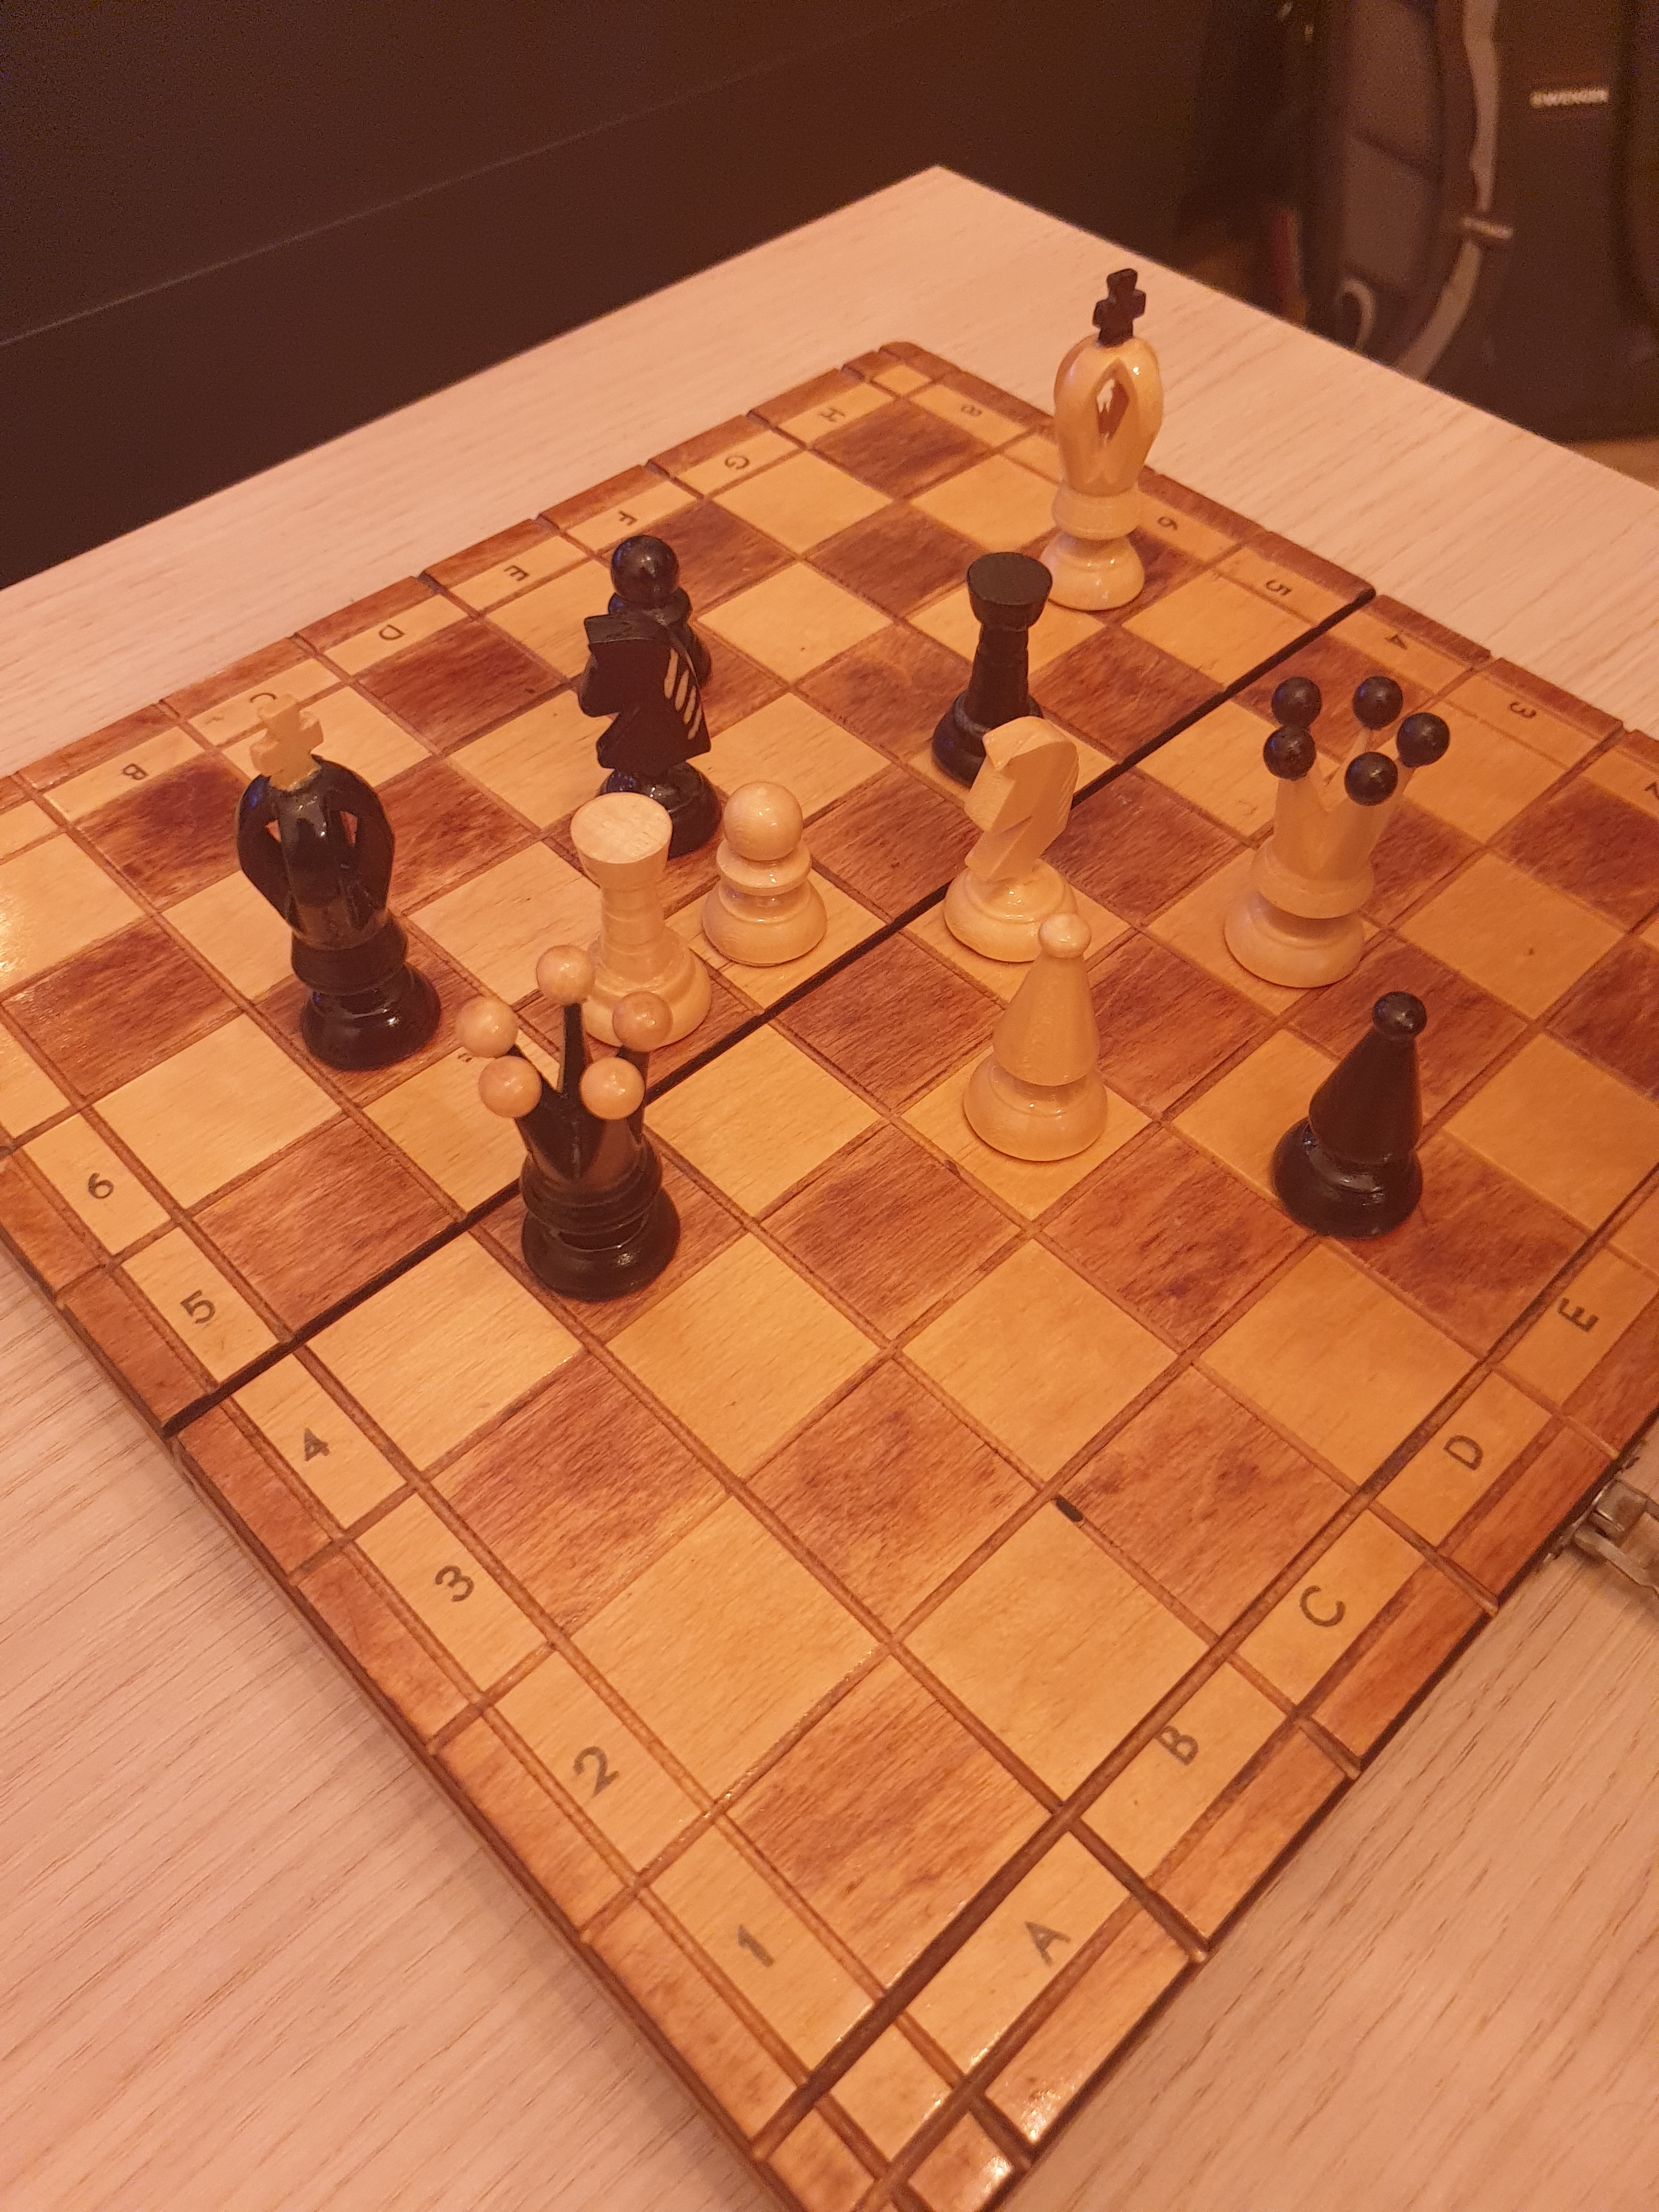bbishop: (1251, 970, 1457, 1258)
bking: (200, 681, 467, 1097)
bknight: (551, 590, 753, 876)
bpawn: (587, 521, 723, 705)
bqueen: (448, 935, 718, 1327)
brook: (911, 538, 1070, 799)
wbishop: (951, 906, 1121, 1170)
wking: (1028, 254, 1178, 624)
wknight: (915, 704, 1114, 988)
wpawn: (688, 772, 838, 1005)
wqueen: (1206, 651, 1455, 1007)
wrook: (547, 772, 735, 1073)
